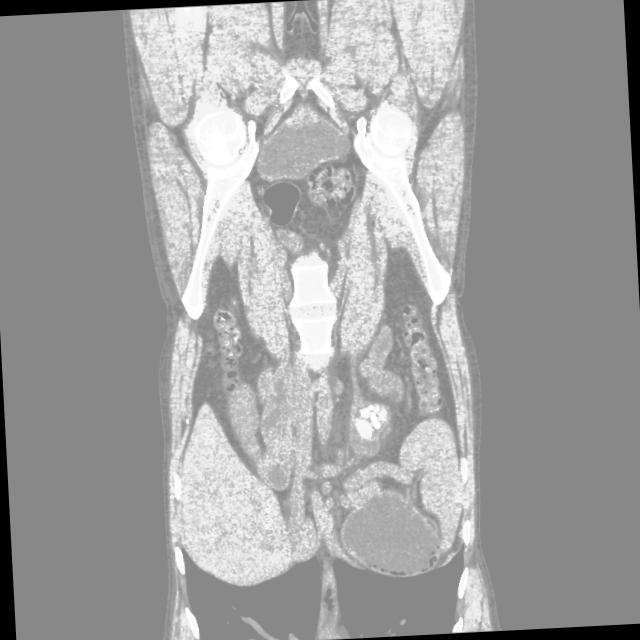STONE: (123, 146, 490, 458)
